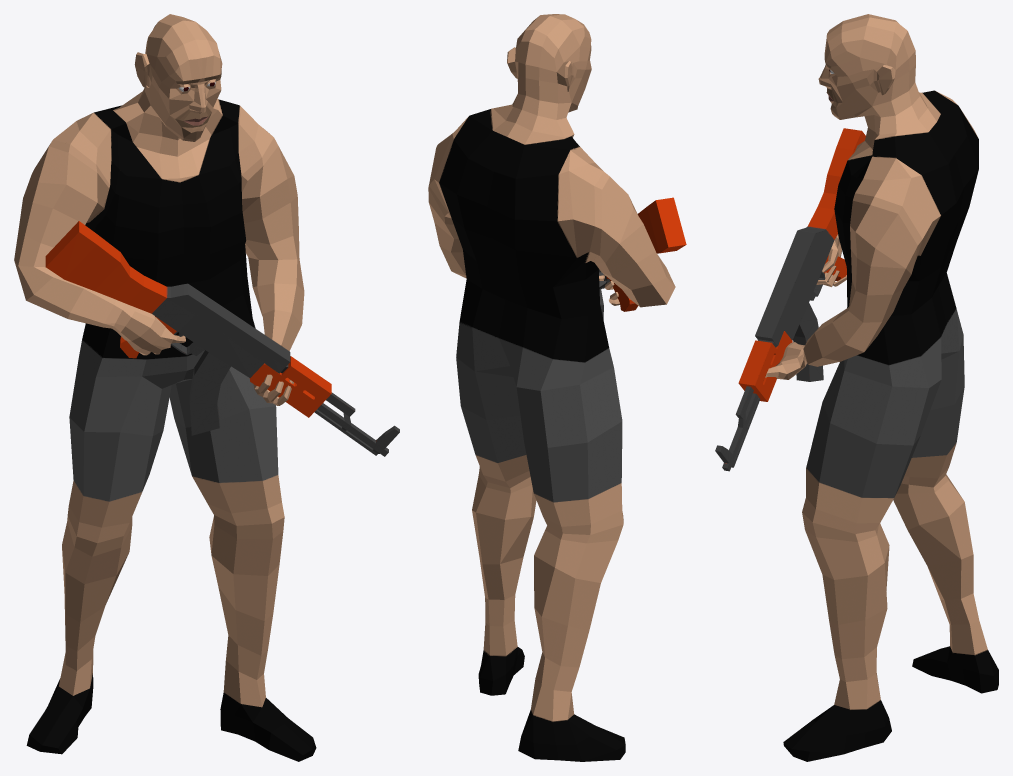
Rendered from PlayerIdle(85).obj.
3 views of the same model, side by side, from view 1: azimuth 30°, elevation 25°; view 2: azimuth 150°, elevation 25°; view 3: azimuth 270°, elevation 25° (orthographic). The views are drawn at different scales.
Visible parts, largest first — view 1: Plane002, Object001; view 2: Plane002, Object001; view 3: Plane002, Object001.
Part boxes in pixels (x1,y1,x2,y2): Plane002: (14, 14, 316, 761); Object001: (45, 221, 399, 456); Plane002: (428, 14, 675, 761); Object001: (599, 197, 686, 319); Plane002: (765, 14, 998, 761); Object001: (715, 128, 865, 471).
Size of the model in its own units: 732 by 1800 by 664.
